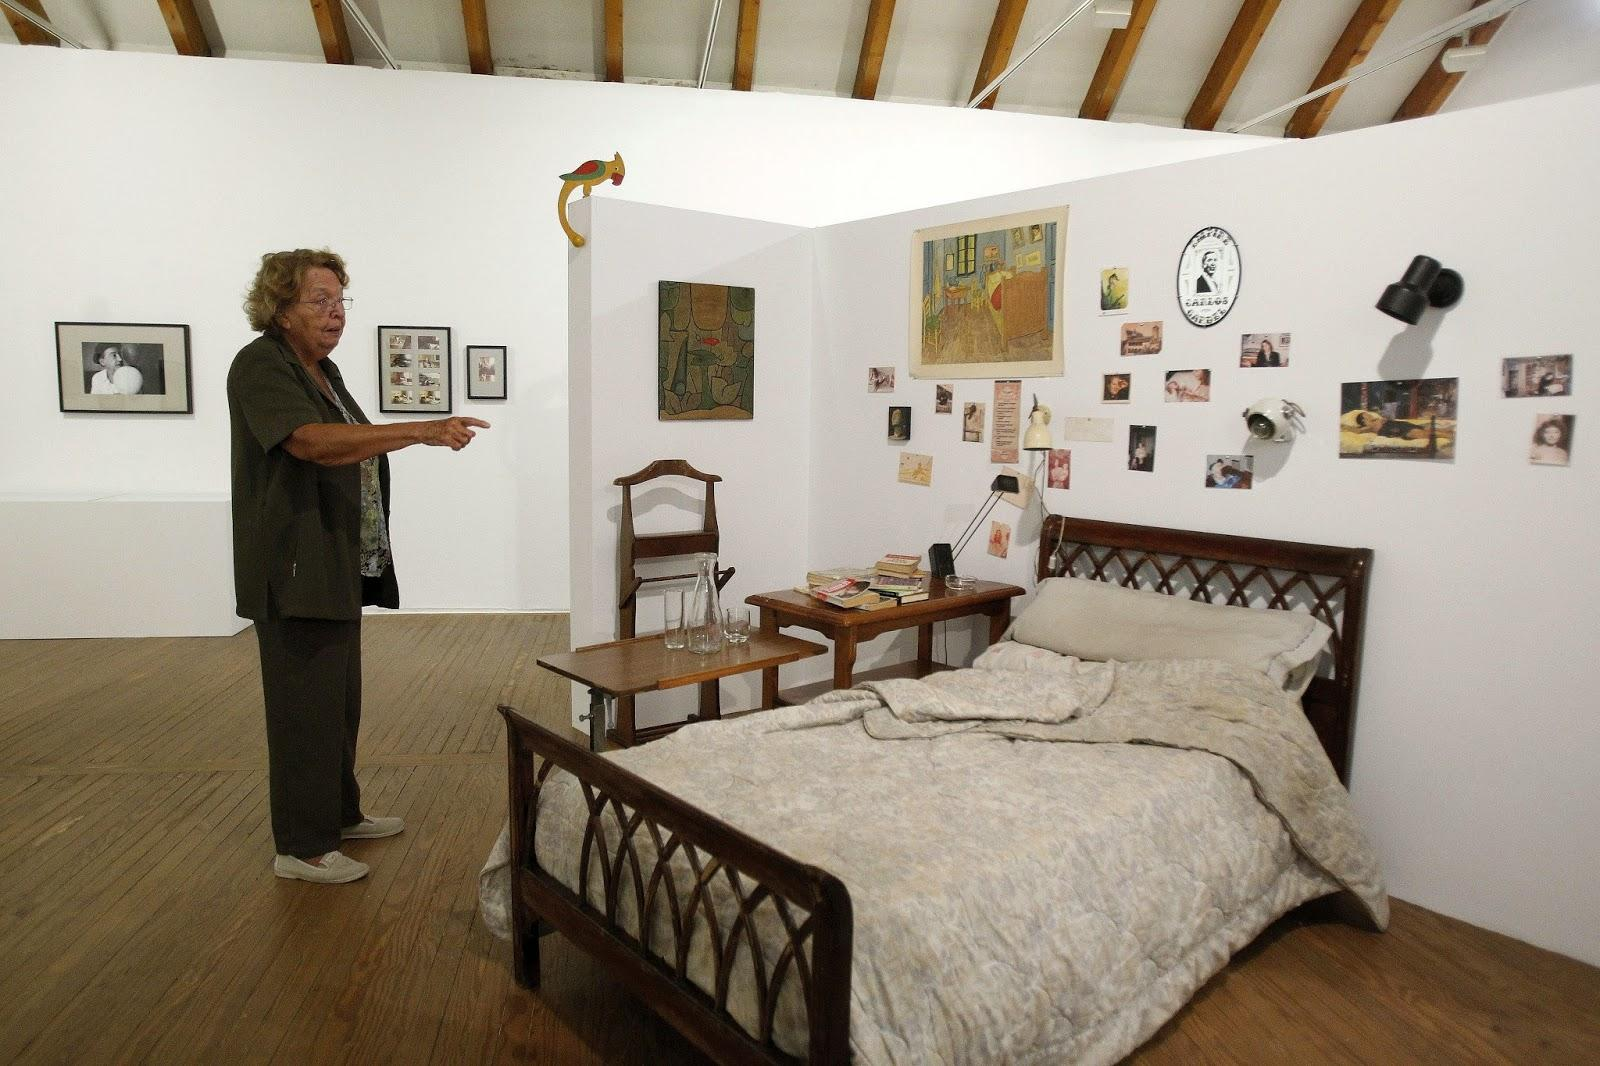bed: (588, 702, 1285, 1066)
